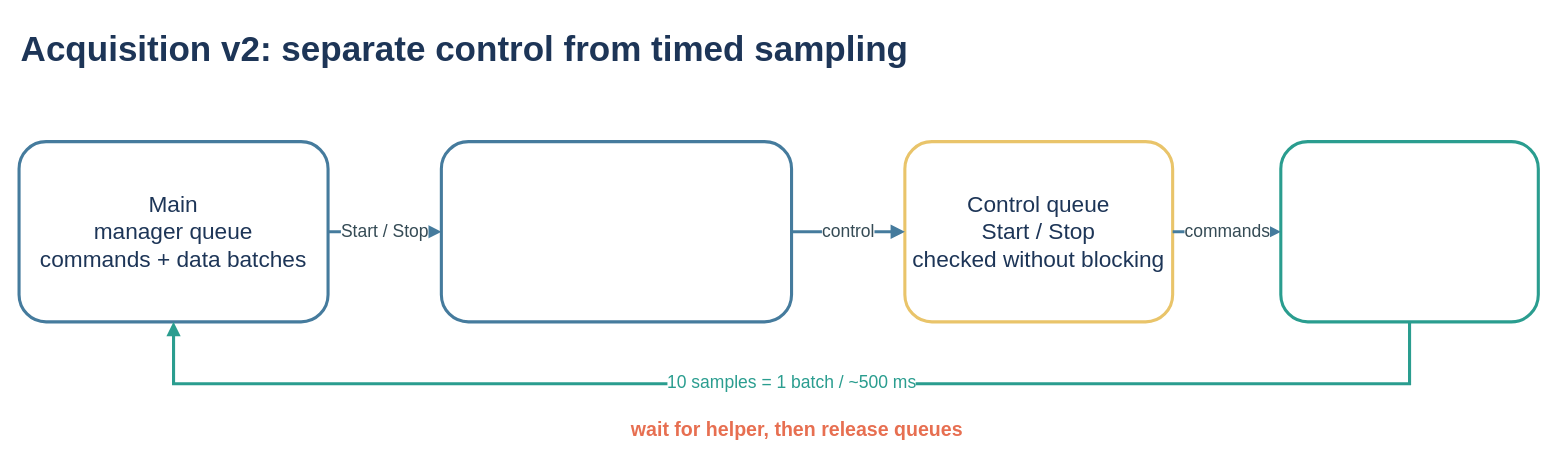
This 1557x468 diagram has some shape labels left out. Each missing label, with the centre of its shape:
"Acquisition handler Start / Stop / shutdown waits for helper completion" goes at point (616, 231).
"Timed Loop sample every 50 ms buffer 10 samples" goes at point (1409, 231).
